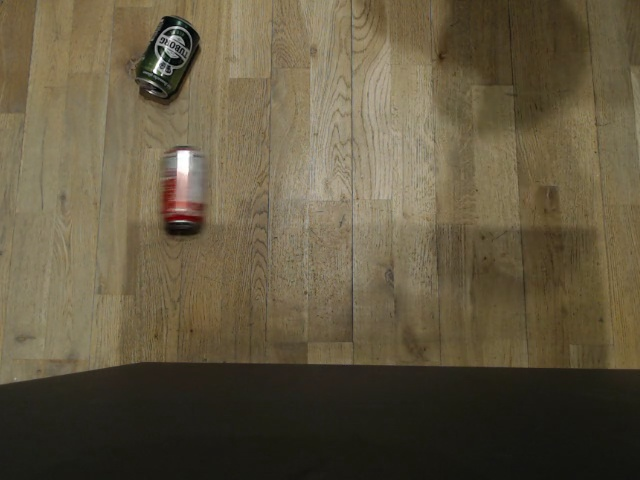beer: (130, 12, 201, 102)
cola: (158, 143, 209, 237)
